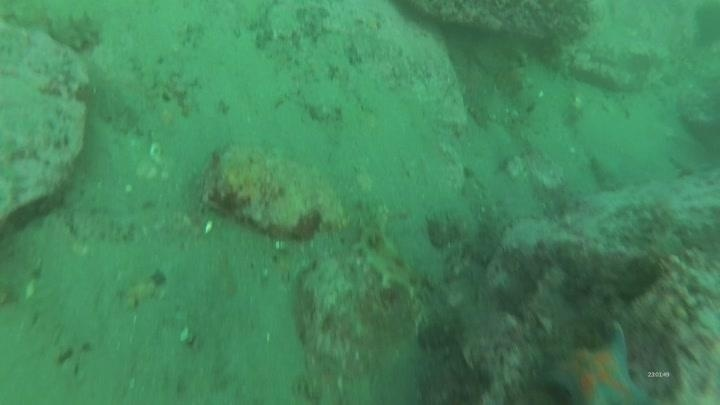holothurian: (352, 211, 421, 300), (44, 7, 105, 55)
starfish: (537, 323, 653, 404)
